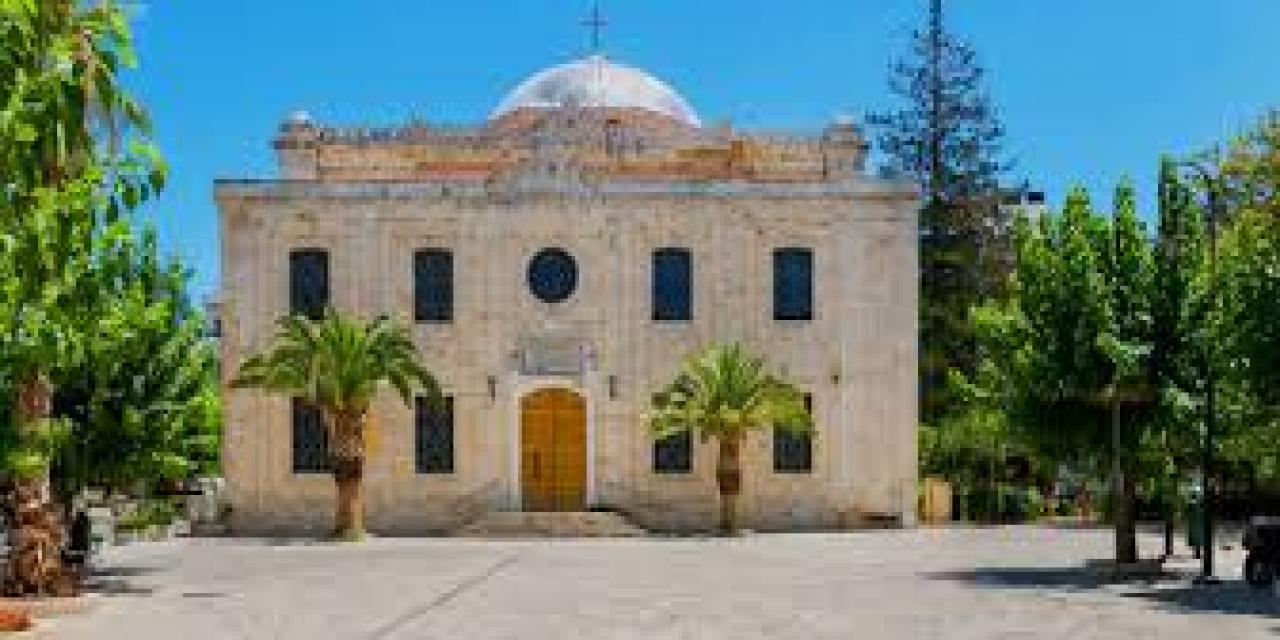Agios Titos: (209, 1, 922, 531)
